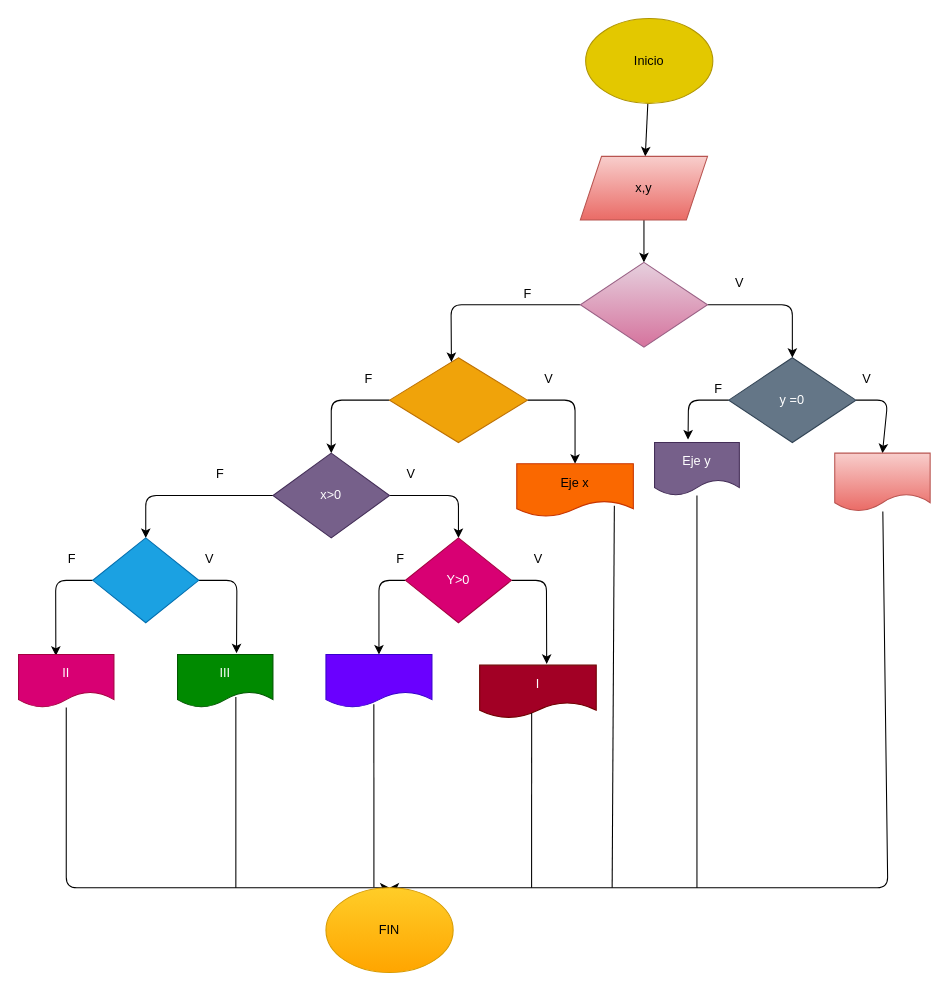
The diagram is 949 pixels wide and 991 high, and some of its shapes have lost their labels. The shapes that lost their labels are listed below. From the top down, each one's box as (x1, y1, x2, y2) in pixels, then its label:
(579, 261, 708, 347): x==0
(388, 357, 527, 443): y=0
(834, 452, 930, 511): ORIGEN
(92, 537, 199, 623): Y<0
(325, 653, 432, 708): IV
